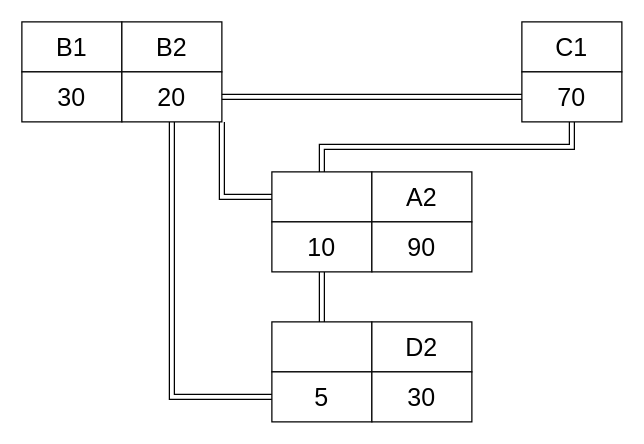
This 644x444 diagram has some shape labels left out. The shapes that lost their labels are listed below. From the top down, each one's centre as x and y in pixels, then its label:
the point at 321,196: A1
the point at 321,346: D1
